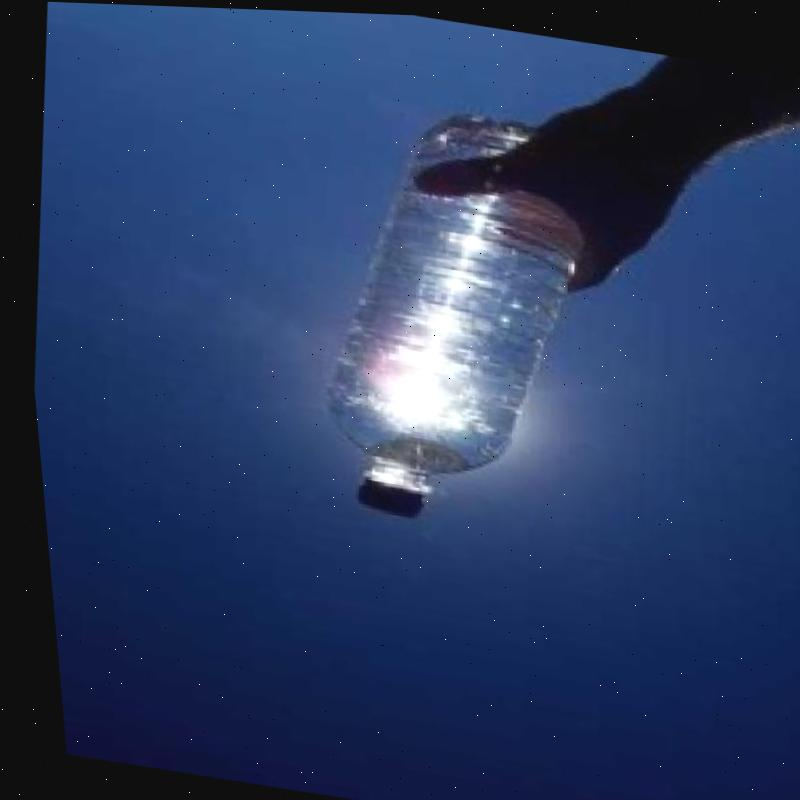botella: (281, 86, 616, 542)
